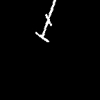double_crochet: (36, 0, 55, 41)
